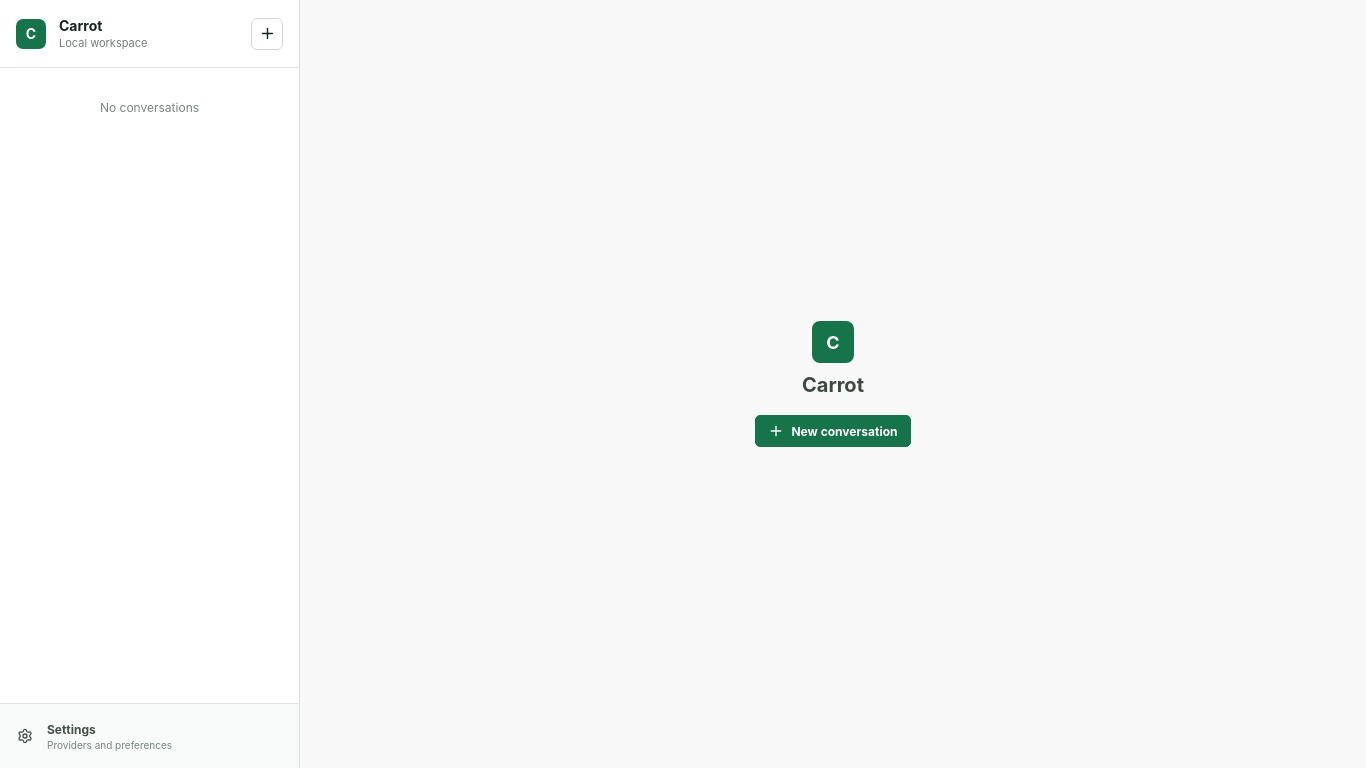
Test: App › creates and renders a local conversation
Step 1. Click the button named "New conversation" → (267, 34), box [251,18,283,50]
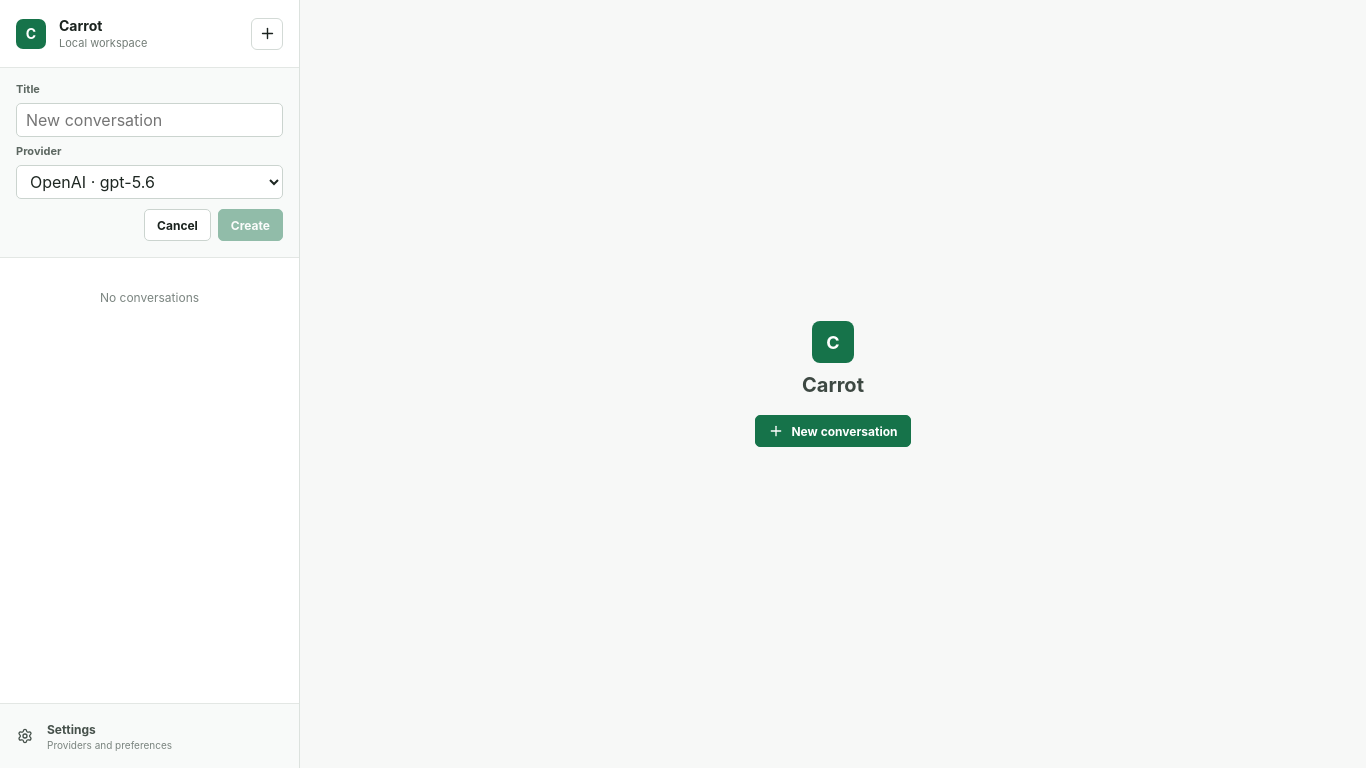
Step 2. Type "Persistence test" into the field with id "conversation-title" → (150, 120), box [16,103,283,137]
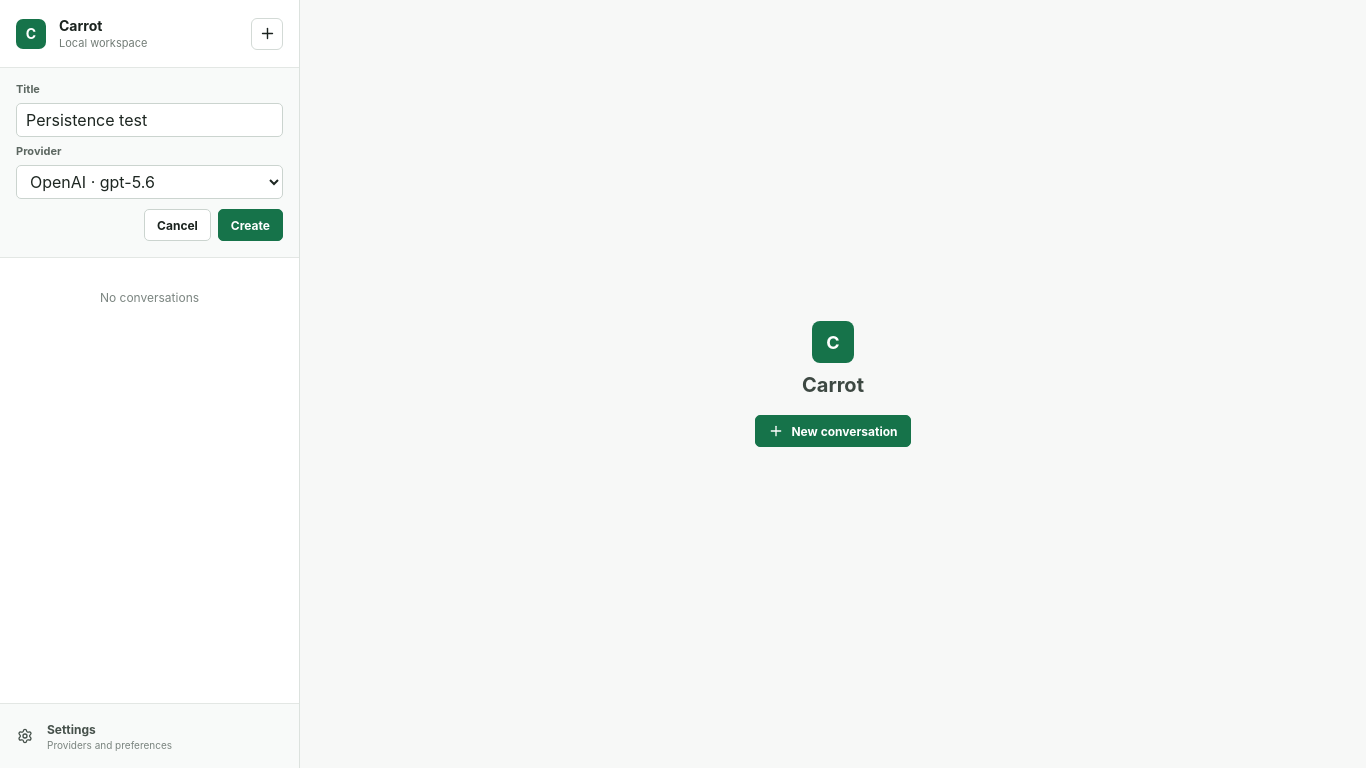
Step 3. Submit the form with class "create-form", box [0,68,299,258]
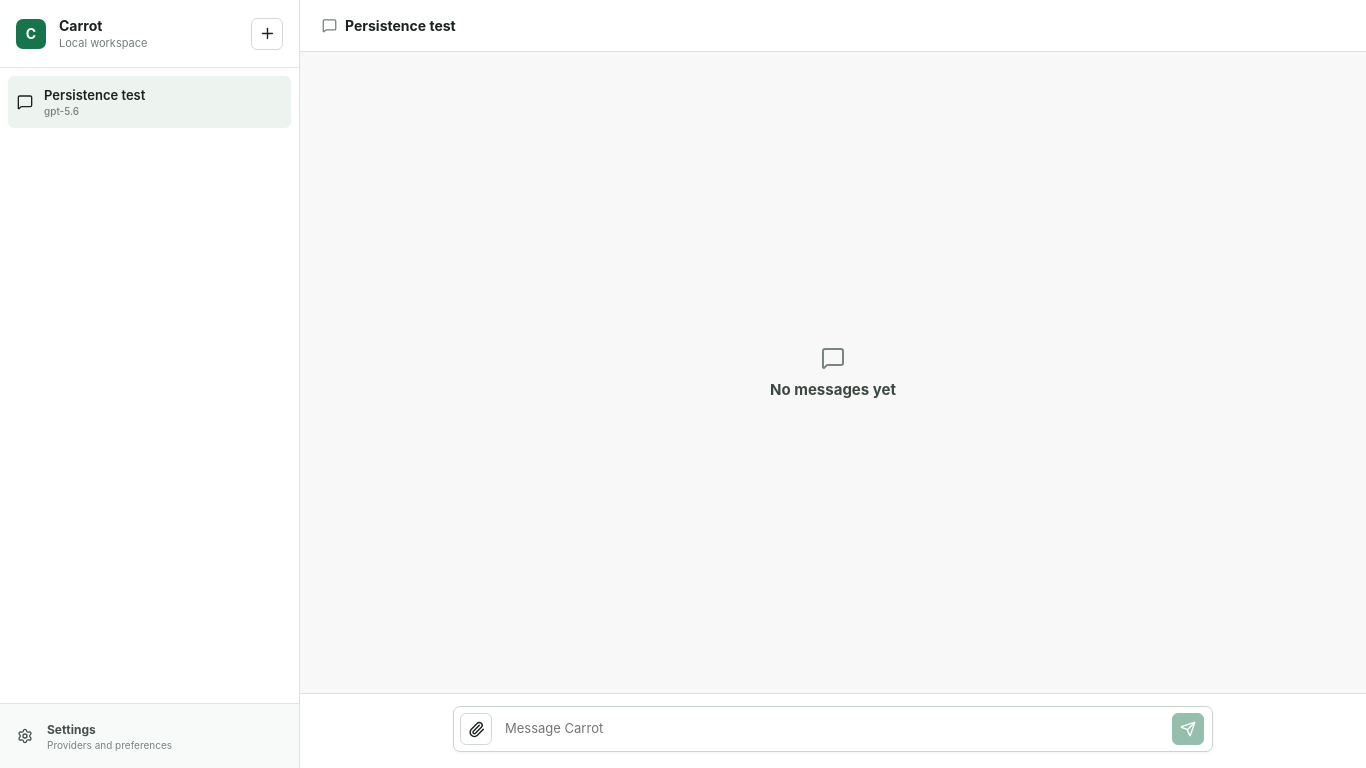
Result: the text "Persistence test" is shown at [44,87,145,103]
Result: the text "No messages yet" is shown at [770,380,896,399]
Result: the text box named "Message" is shown at [502,713,1164,745]
